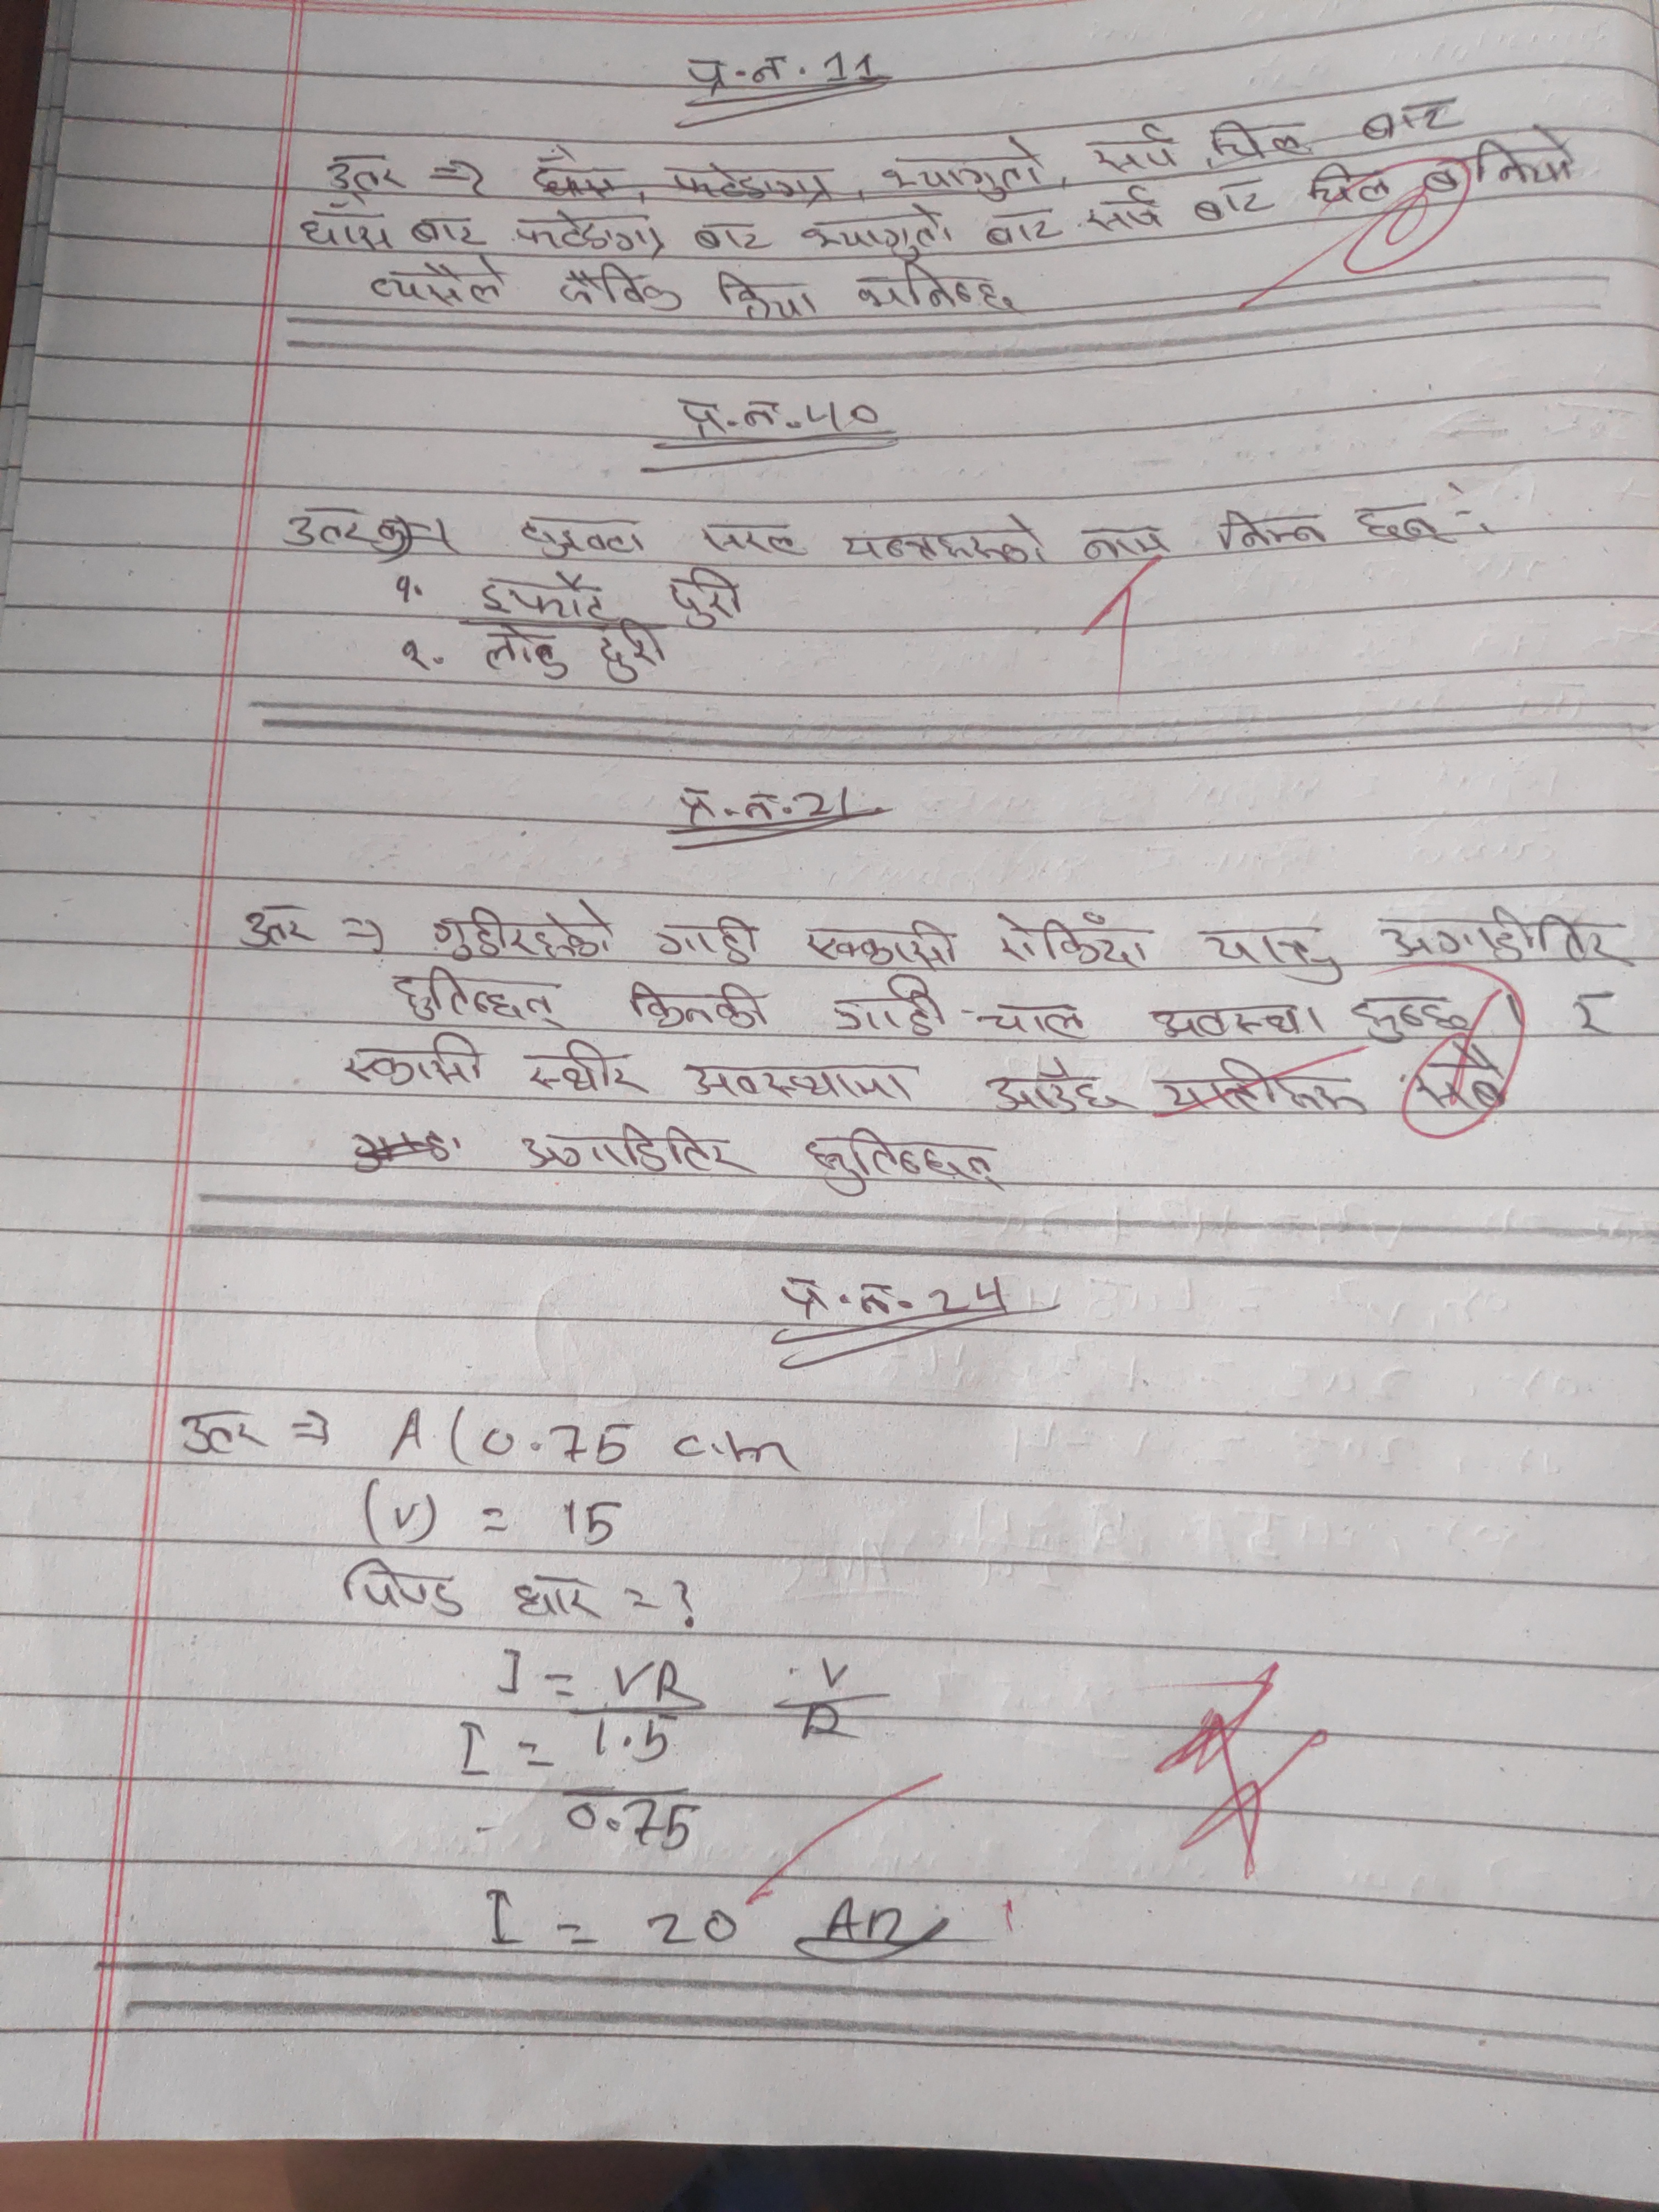text: (1373, 897, 1626, 965), (805, 1122, 1011, 1202), (512, 1120, 765, 1184), (678, 1052, 929, 1108), (840, 507, 1054, 571), (1159, 1055, 1368, 1120), (430, 894, 620, 961), (1420, 129, 1582, 202), (871, 134, 1046, 202), (390, 965, 565, 1029), (1199, 916, 1347, 991), (988, 904, 1159, 968), (624, 967, 770, 1040), (843, 265, 1021, 319), (342, 1029, 490, 1094), (823, 972, 955, 1043), (803, 914, 964, 972), (796, 202, 950, 261), (981, 1050, 1121, 1115), (1143, 998, 1335, 1043), (525, 1033, 645, 1101), (561, 258, 683, 320), (514, 512, 655, 566), (357, 258, 505, 308), (765, 1271, 908, 1324), (650, 906, 765, 970), (709, 256, 819, 322), (671, 772, 779, 836), (476, 573, 613, 624), (511, 207, 660, 251), (662, 564, 746, 632), (1345, 993, 1471, 1038), (673, 390, 784, 441), (1213, 503, 1324, 554), (291, 202, 394, 256), (1349, 495, 1450, 549), (1087, 120, 1185, 176), (483, 622, 573, 681), (676, 42, 786, 91), (1300, 160, 1405, 211), (596, 625, 673, 693), (279, 502, 382, 552), (173, 1402, 261, 1460), (1361, 94, 1466, 143), (1180, 172, 1277, 225), (235, 897, 315, 958), (1077, 181, 1166, 235), (322, 141, 404, 199), (976, 1001, 1091, 1042), (1208, 113, 1309, 158), (701, 517, 805, 561), (401, 204, 490, 249), (1073, 514, 1161, 559), (685, 218, 774, 260), (978, 212, 1065, 249), (1565, 984, 1619, 1038), (816, 51, 889, 89)
